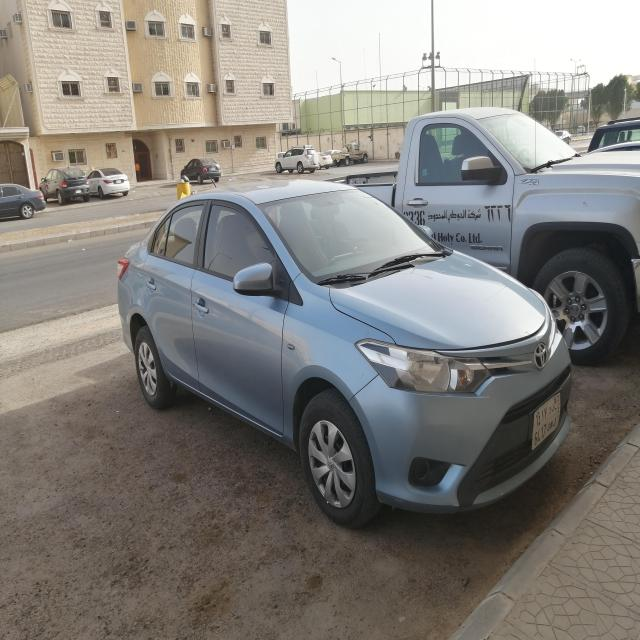license_plate: (531, 392, 561, 451), (211, 167, 215, 170)
